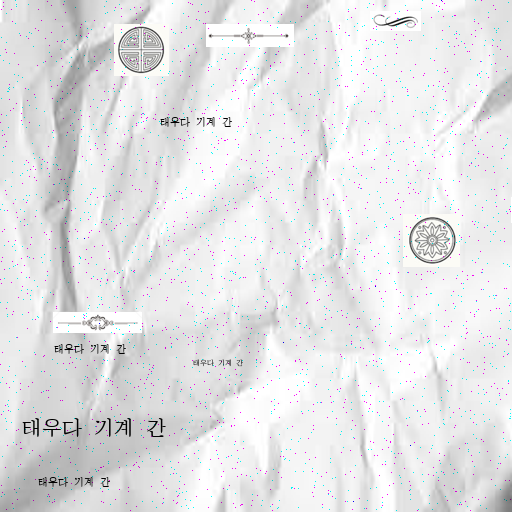text: (22, 418, 162, 438), (160, 117, 230, 127), (54, 344, 124, 354), (38, 477, 108, 487), (193, 359, 242, 366)
